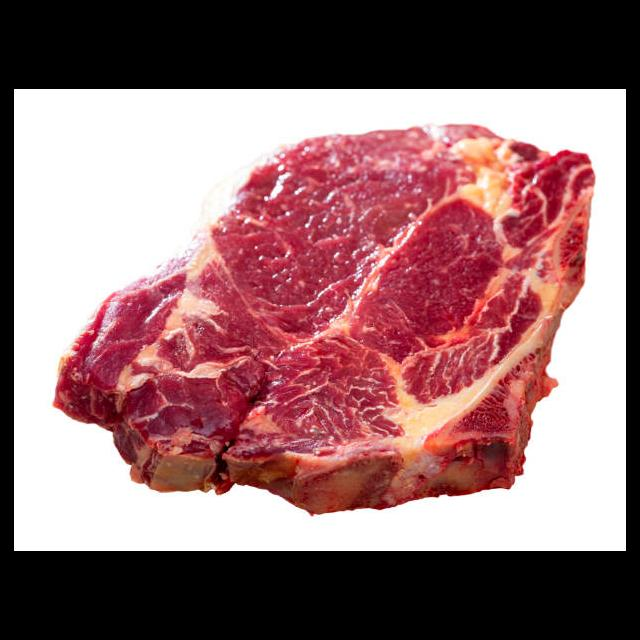beef: (49, 121, 597, 516)
